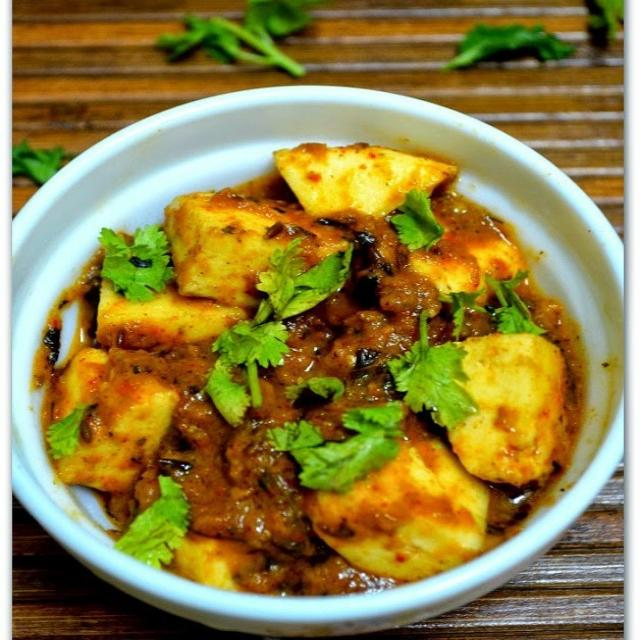ShahiPaneer: (32, 137, 594, 595)
